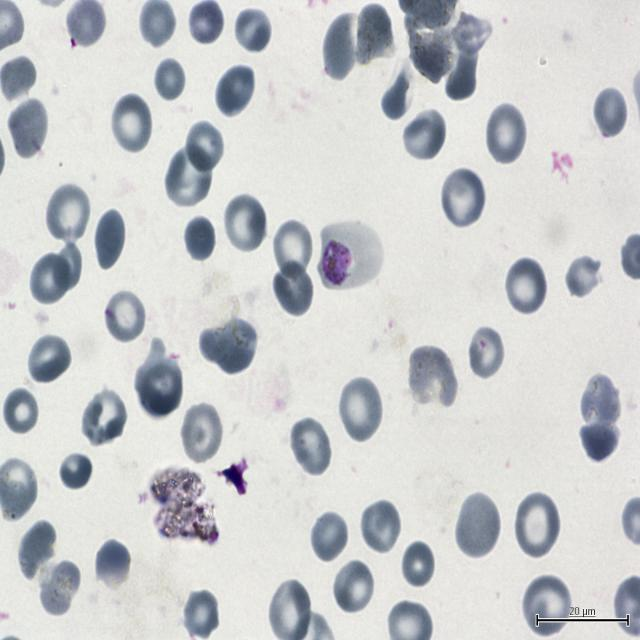red blood cell: (519, 574, 575, 640), (406, 345, 458, 412), (454, 490, 502, 560), (513, 490, 561, 560), (134, 352, 184, 419), (199, 320, 259, 374), (337, 376, 384, 444), (80, 386, 128, 449), (439, 166, 486, 230), (44, 183, 92, 245), (222, 191, 268, 254), (503, 255, 548, 318), (484, 102, 528, 166), (180, 401, 224, 465), (321, 12, 361, 82), (288, 416, 333, 478), (580, 376, 625, 437), (110, 92, 154, 154), (38, 557, 82, 619), (272, 218, 314, 282), (167, 149, 210, 211), (16, 518, 58, 581), (271, 259, 315, 318), (332, 558, 376, 616), (25, 333, 72, 387), (103, 288, 147, 345), (401, 109, 447, 163), (360, 498, 402, 556), (214, 63, 257, 119), (578, 412, 622, 466), (91, 207, 128, 271), (183, 120, 226, 174), (466, 322, 506, 380), (10, 99, 48, 158), (410, 34, 455, 83), (92, 538, 132, 593), (309, 510, 349, 563), (1, 385, 40, 438), (591, 86, 629, 140), (355, 5, 392, 60), (29, 254, 70, 302), (380, 62, 413, 121), (564, 254, 604, 302), (182, 589, 220, 639), (399, 539, 436, 590), (181, 213, 217, 265), (139, 0, 177, 49), (445, 48, 479, 102), (66, 1, 105, 48), (55, 447, 93, 494), (151, 56, 188, 104), (452, 12, 492, 54), (234, 9, 272, 52), (188, 0, 225, 44), (0, 58, 38, 100), (52, 241, 83, 290)
trophozoite: (318, 221, 383, 290)
